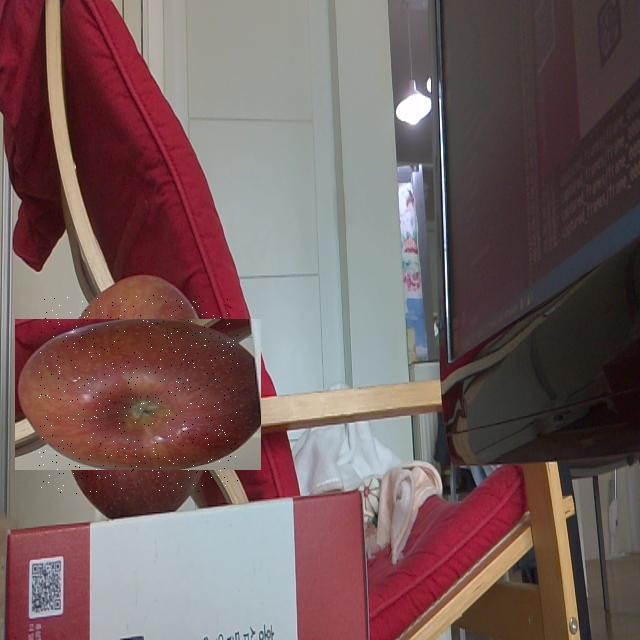apple: (39, 295, 238, 494)
